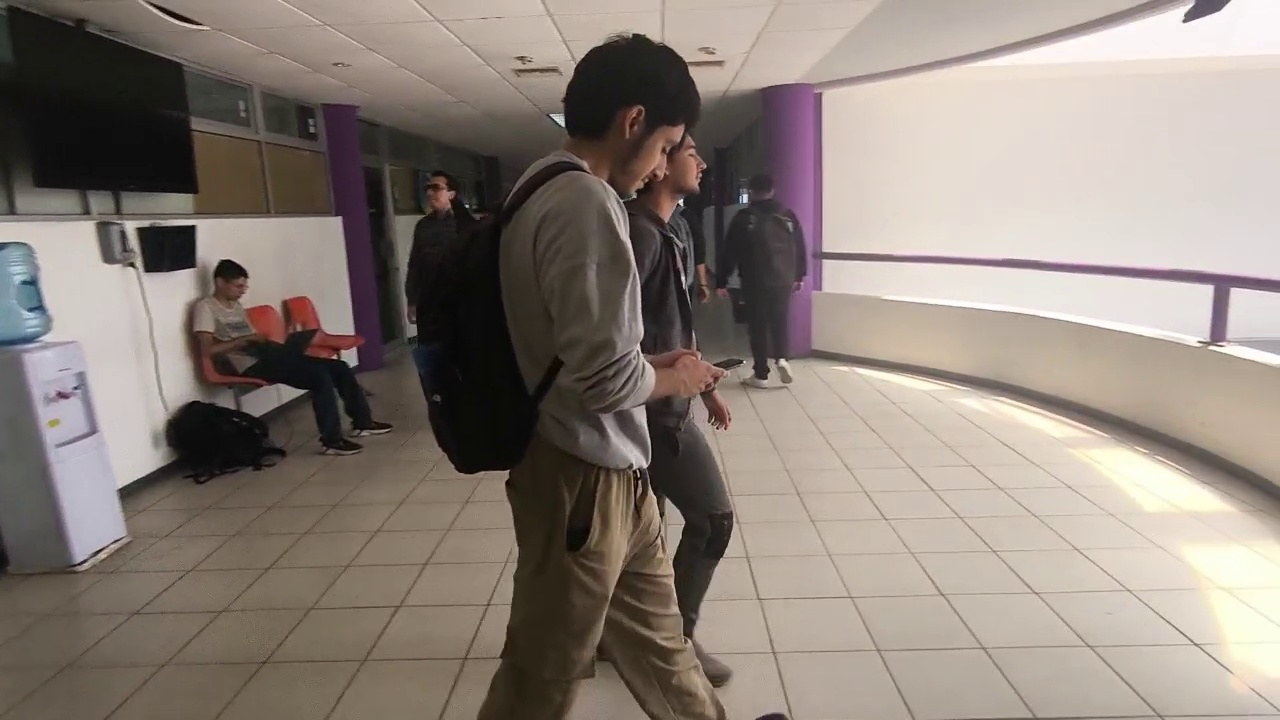mixto2: (703, 353, 748, 377)
